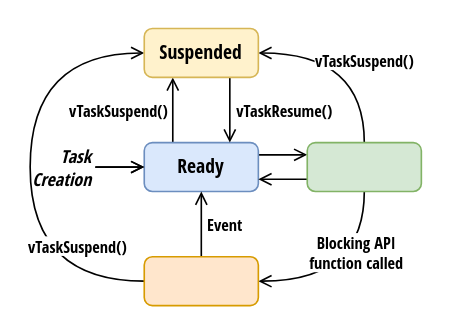
This 450x334 diagram has some shape labels left out. Each missing label, with the centre of its shape:
"Blocked" goes at point (200, 280).
"Running" goes at point (363, 166).
